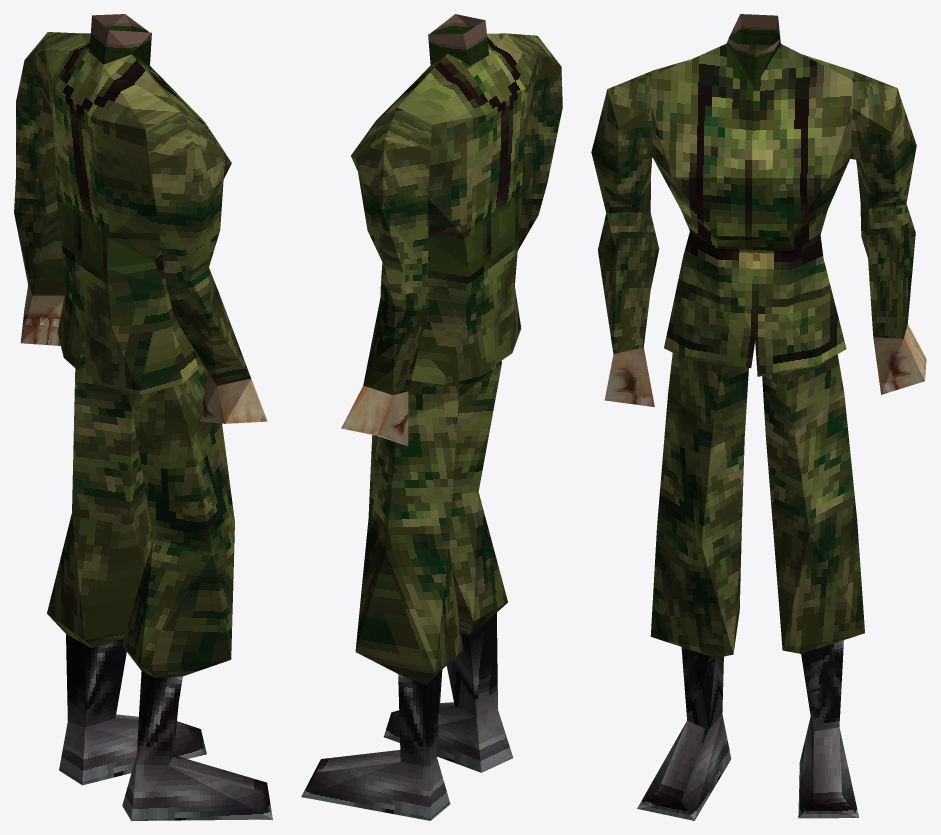
File: primary_026.glb
3 views of the same model, side by side, from view 1: azimuth 30°, elevation 25°; view 2: azimuth 150°, elevation 25°; view 3: azimuth 270°, elevation 25° (orthographic). The views are drawn at different scales.
Parts seen in each view (by area): view 1: Object; view 2: Object; view 3: Object.
Boxes of the visible parts, x1,y1,x2,y2 form: Object: (14,14,272,820); Object: (301,14,562,820); Object: (591,14,926,820).
Bounding box in the file's own units: 0.3907 × 1.83 × 0.7429.
85 materials, 85 textured.
